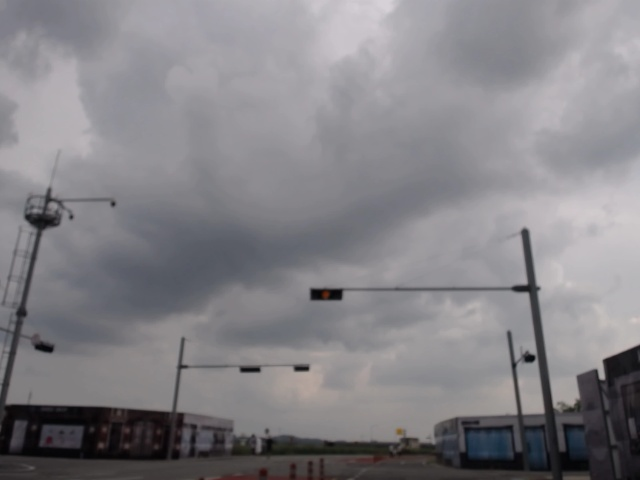orange_3: (310, 289, 342, 300)
